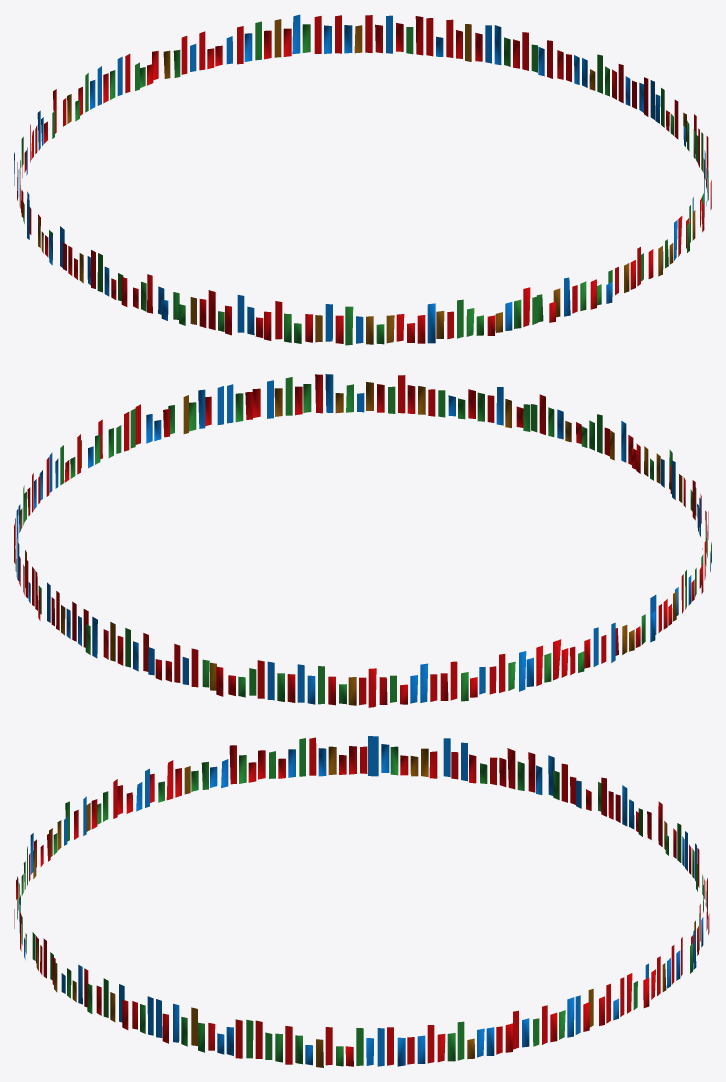
The model's file is RoundBooks_LOD2.fbx.
3 renders of one model, top to bottom at view 1: azimuth 30°, elevation 25°; view 2: azimuth 150°, elevation 25°; view 3: azimuth 270°, elevation 25°, orthographic.
Visible parts, largest first — view 1: Books.004; view 2: Books.004; view 3: Books.004.
Part boxes in pixels (bbox=[...]): Books.004: bbox=[14, 14, 711, 345]; Books.004: bbox=[14, 374, 711, 707]; Books.004: bbox=[14, 736, 709, 1067].
Size of the model in its own units: 552 by 35.27 by 552.
